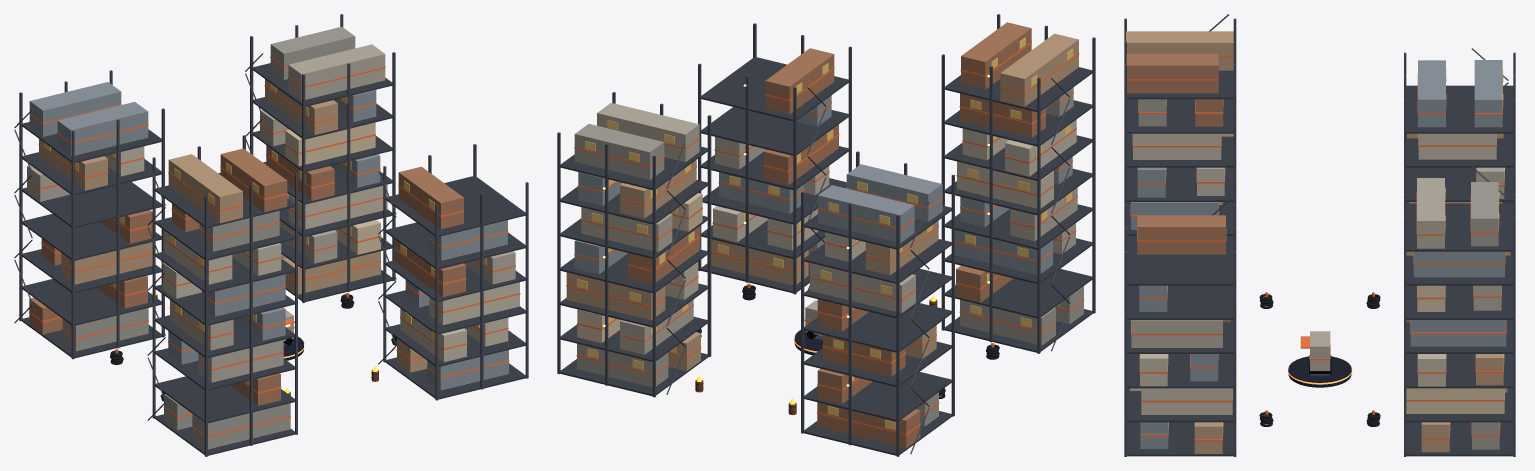
The picture shows the model from 3 angles, left to right: view 1: azimuth 30°, elevation 25°; view 2: azimuth 150°, elevation 25°; view 3: azimuth 270°, elevation 25°; orthographic projection. The views are drawn at different scales.
Visible parts, largest first — view 1: district_city_vertical.lod0; view 2: district_city_vertical.lod0; view 3: district_city_vertical.lod0.
Part boxes in pixels (x1,y1,x2,y2): district_city_vertical.lod0: (14, 14, 528, 456); district_city_vertical.lod0: (557, 14, 1095, 456); district_city_vertical.lod0: (1124, 14, 1520, 456).
Bounding box in the file's own units: 33.06 × 24.84 × 32.6.
